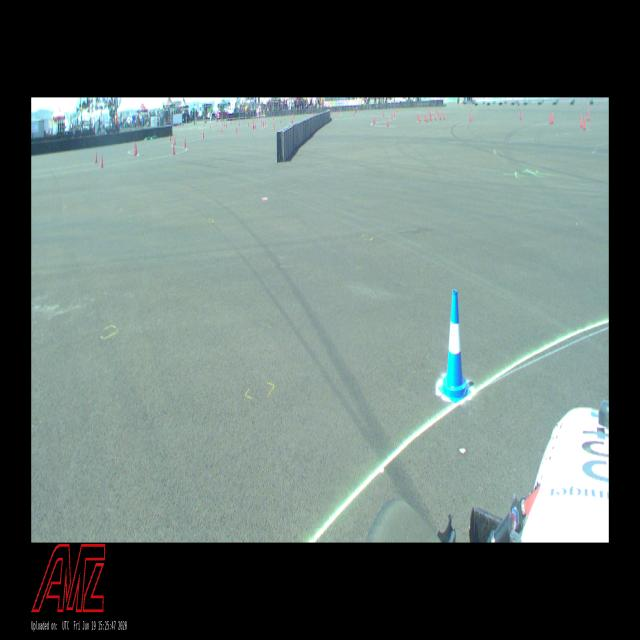blue_cone: (438, 289, 471, 403)
